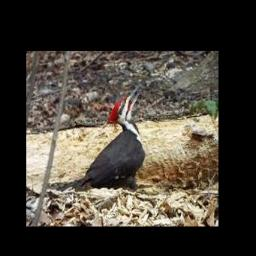Woodpecker: (56, 86, 146, 191)
